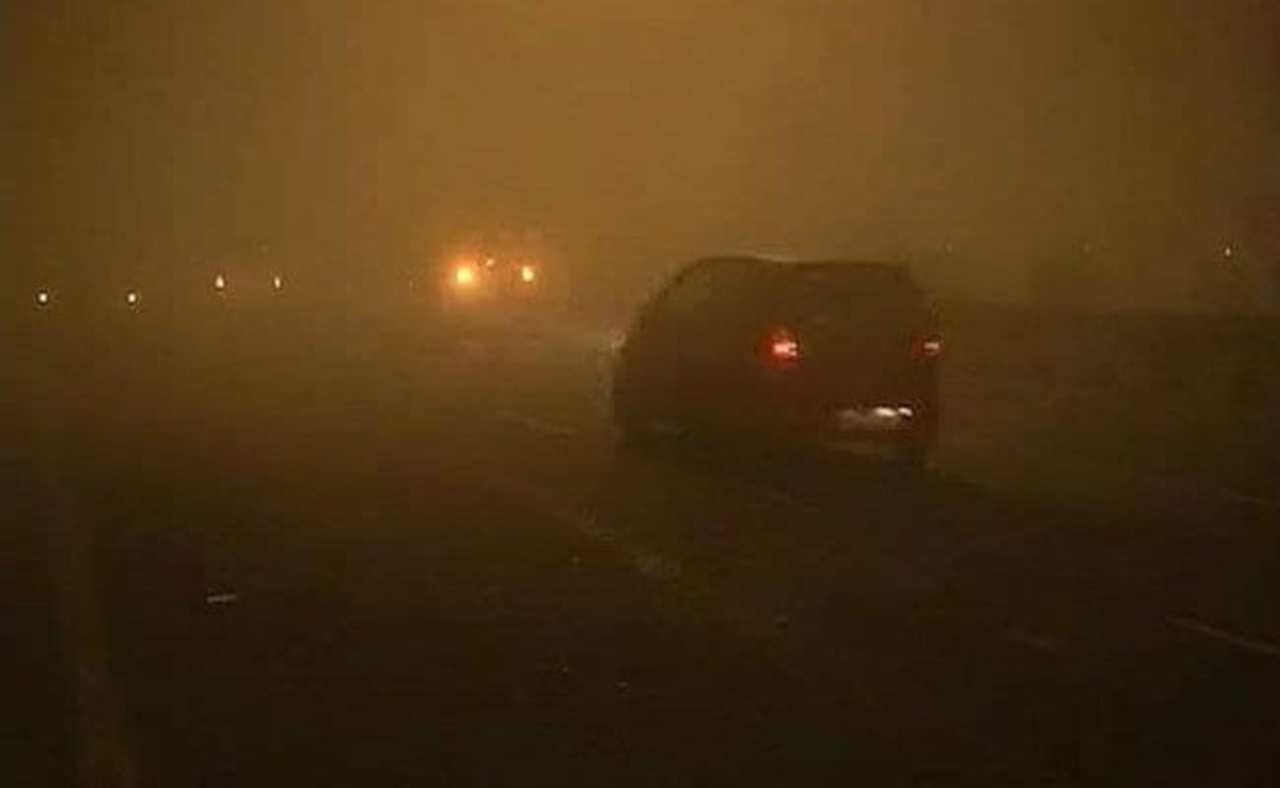car: (611, 244, 944, 478), (20, 228, 150, 329), (431, 211, 542, 304), (182, 243, 283, 306)
